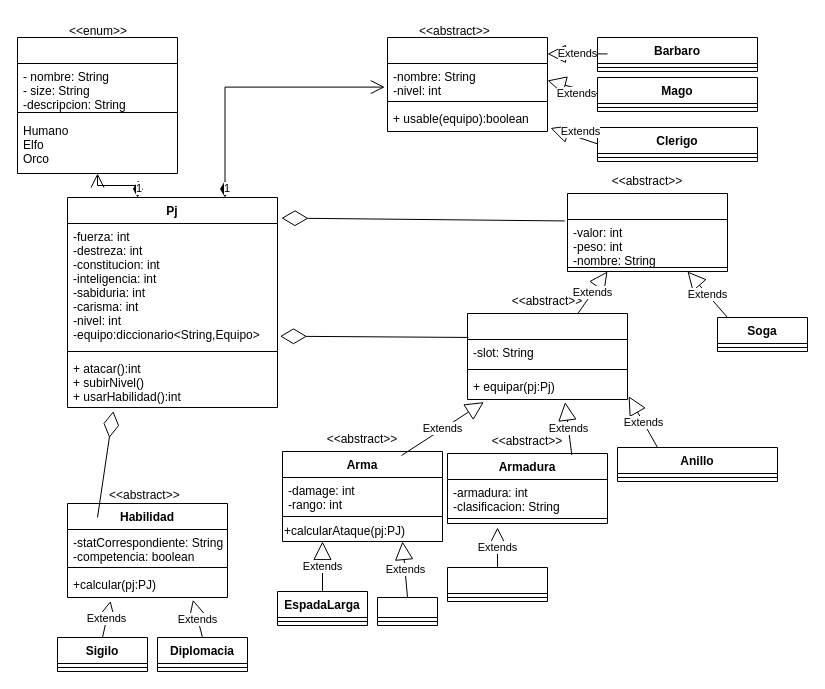
This 825x689 diagram has some shape labels left out. The box of each missing label's shape, as (x1, y1, x2, y2) in pixels:
Arco: (376, 596, 438, 626)
ArmaduraPlacas: (446, 566, 548, 602)
Clase: (386, 36, 548, 132)
Equipo: (466, 312, 628, 400)
Item: (566, 192, 728, 272)
Raza: (16, 36, 178, 174)
